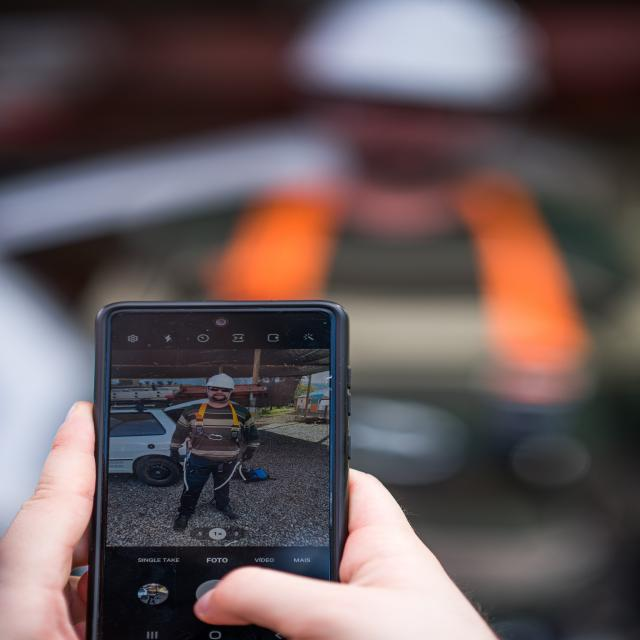botas: (170, 512, 188, 532), (214, 503, 238, 518)
capacete: (203, 372, 240, 390)
corda de vida: (184, 401, 242, 492)
luva: (240, 444, 258, 461), (166, 444, 178, 461)
